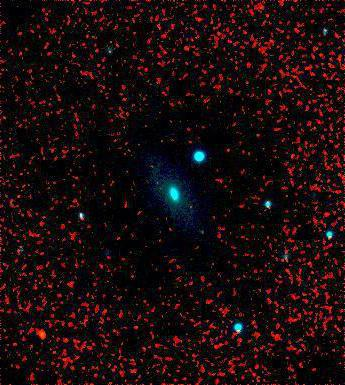star: (28, 317, 58, 347)
